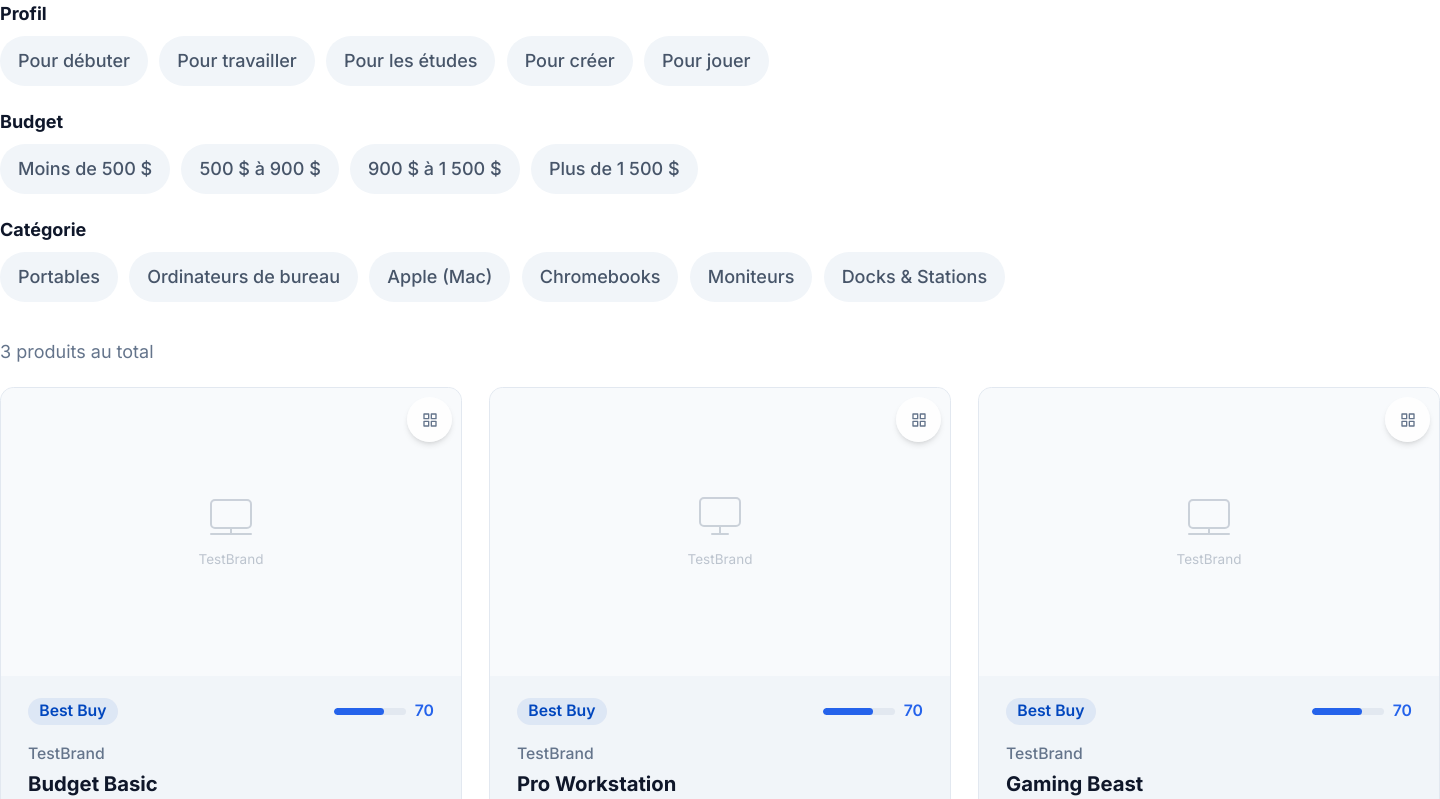
Scenario: CatalogueFilters › shows clear filters button when a filter is active
Check: the text "Effacer les filtres" is not shown
Click the button "Pour jouer": (706, 61) [644,36,769,86]
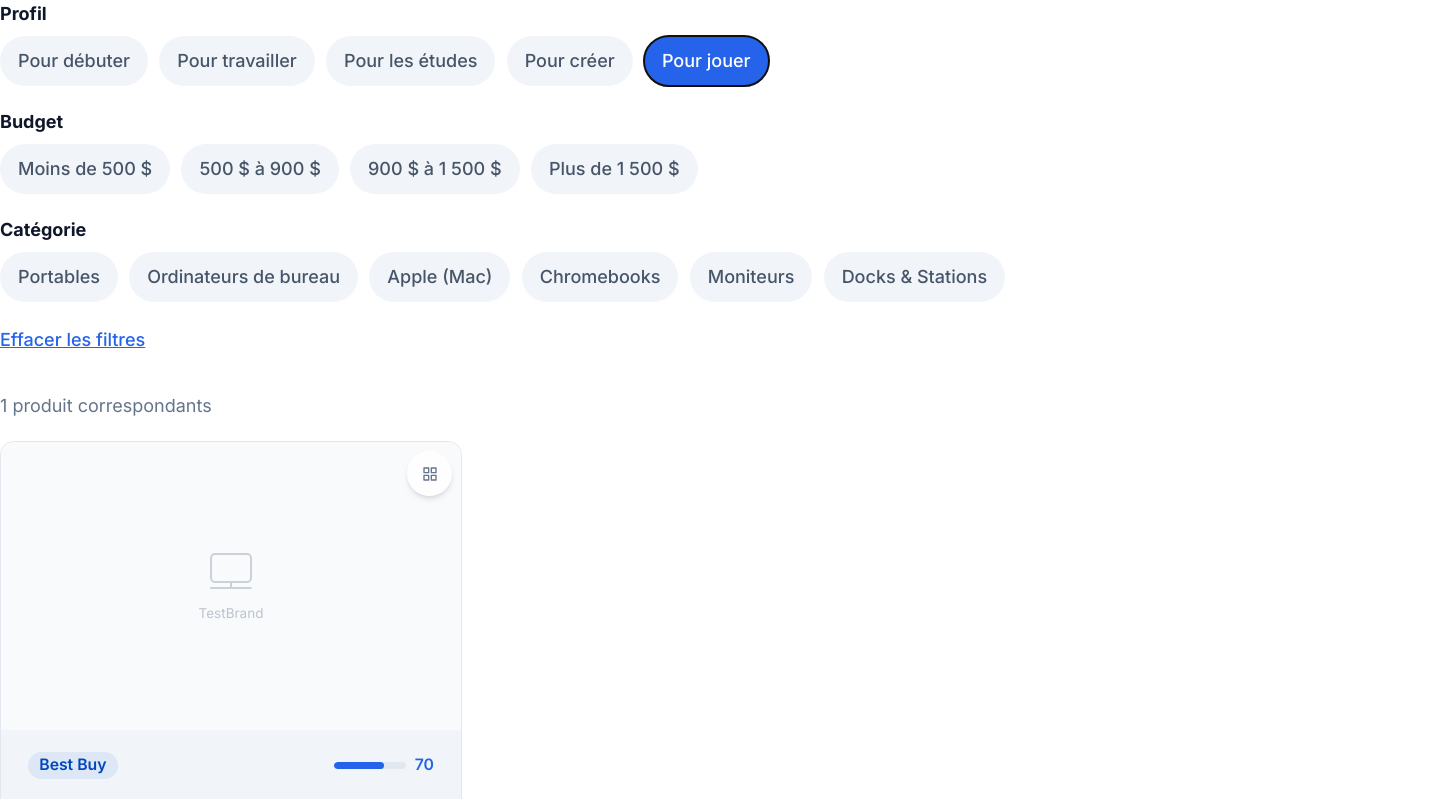
Check: the button "Effacer les filtres" is shown, box [0,326,145,353]
